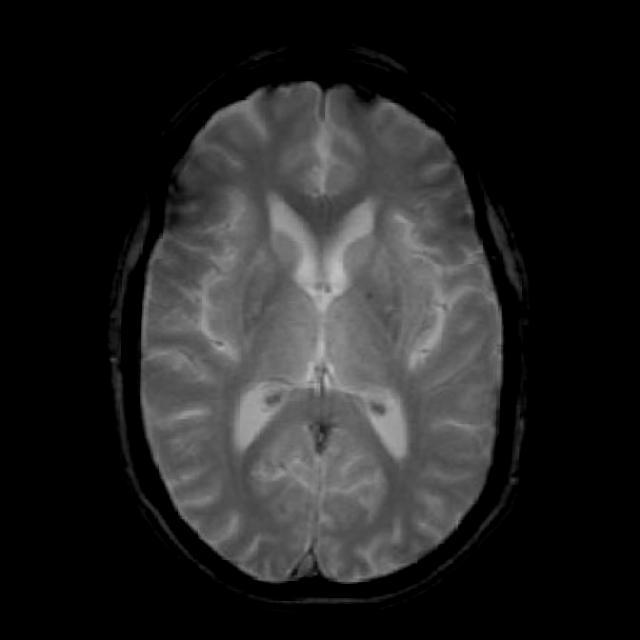EMCI: (395, 202, 450, 354)
MCI: (194, 204, 242, 360)
